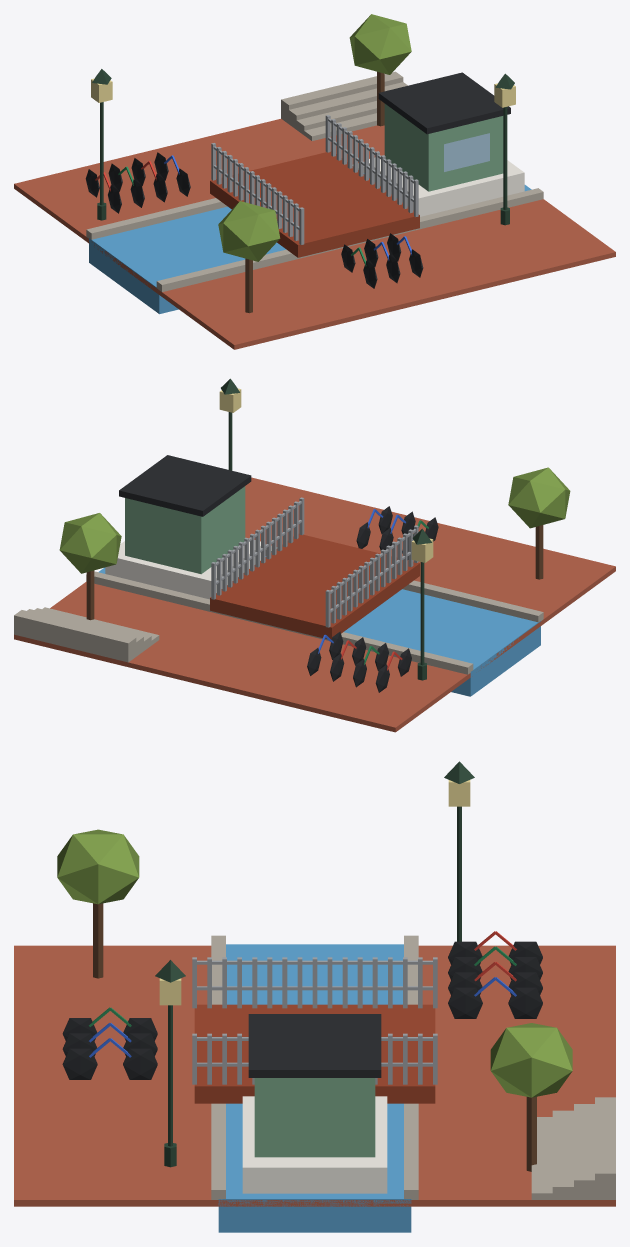
File: Park_cim_kanal_Hafif.fbx
3 renders of one model, top to bottom at view 1: azimuth 30°, elevation 25°; view 2: azimuth 150°, elevation 25°; view 3: azimuth 270°, elevation 25°, orthographic. The views are drawn at different scales.
Parts seen in each view (by area): view 1: Park_cim_kanal_Hafif; view 2: Park_cim_kanal_Hafif; view 3: Park_cim_kanal_Hafif.
Part boxes in pixels (<box>): Park_cim_kanal_Hafif: <box>14,14,615,349</box>; Park_cim_kanal_Hafif: <box>14,378,615,732</box>; Park_cim_kanal_Hafif: <box>14,761,615,1232</box>.
Bounding box in the file's own units: 10 × 4.35 × 10.
